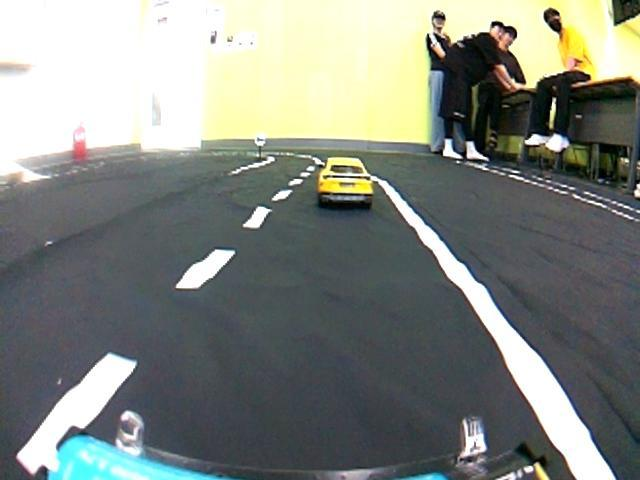car: (310, 149, 382, 218)
straight: (34, 226, 640, 478)
